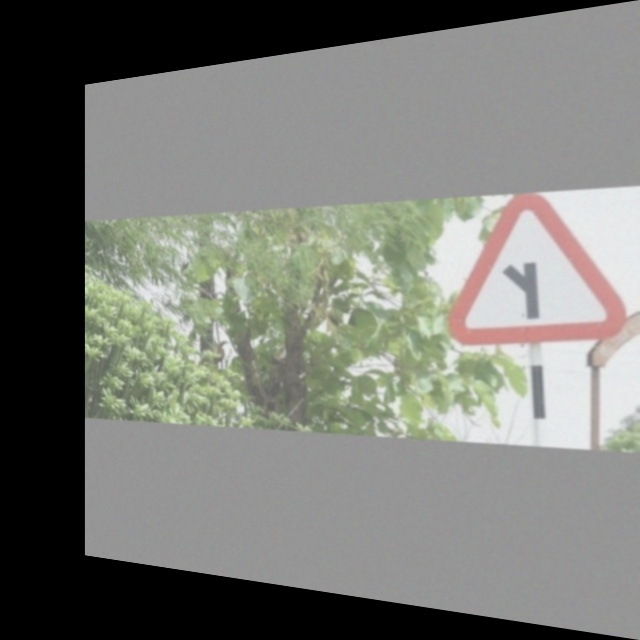Y_Intersection: (453, 192, 615, 345)
